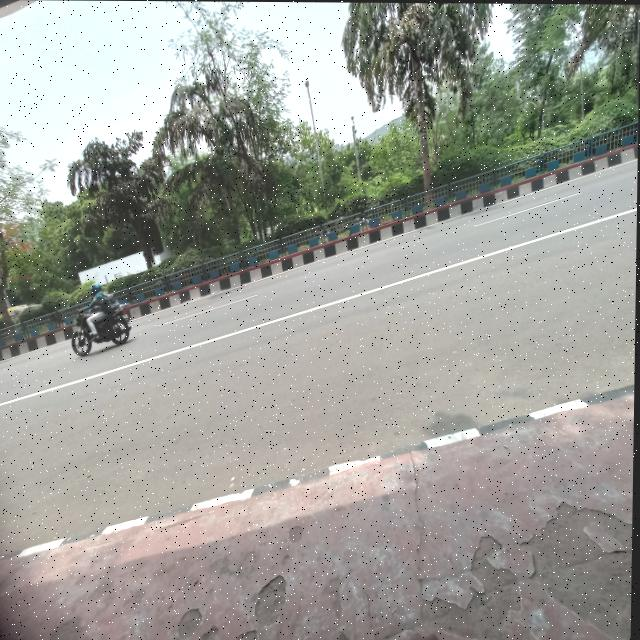bike: (66, 299, 141, 355)
